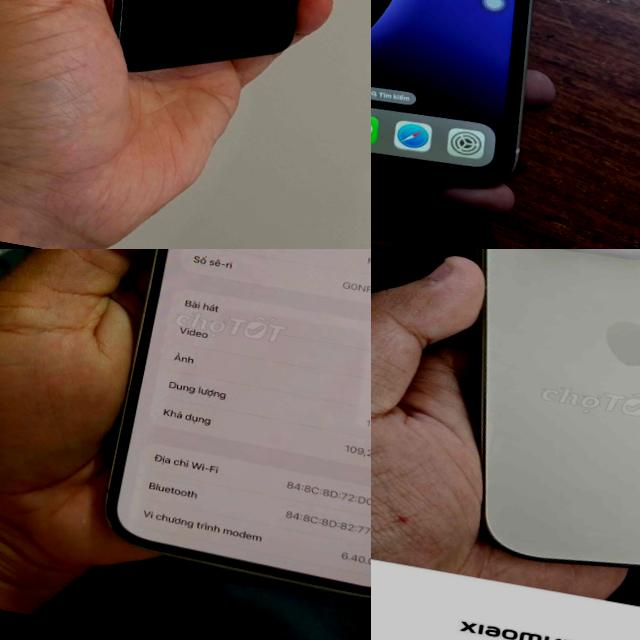gen_12_13: (100, 249, 371, 607)
gen_14: (397, 249, 640, 616)
gen_x_xs: (371, 0, 590, 202), (39, 0, 371, 104)
